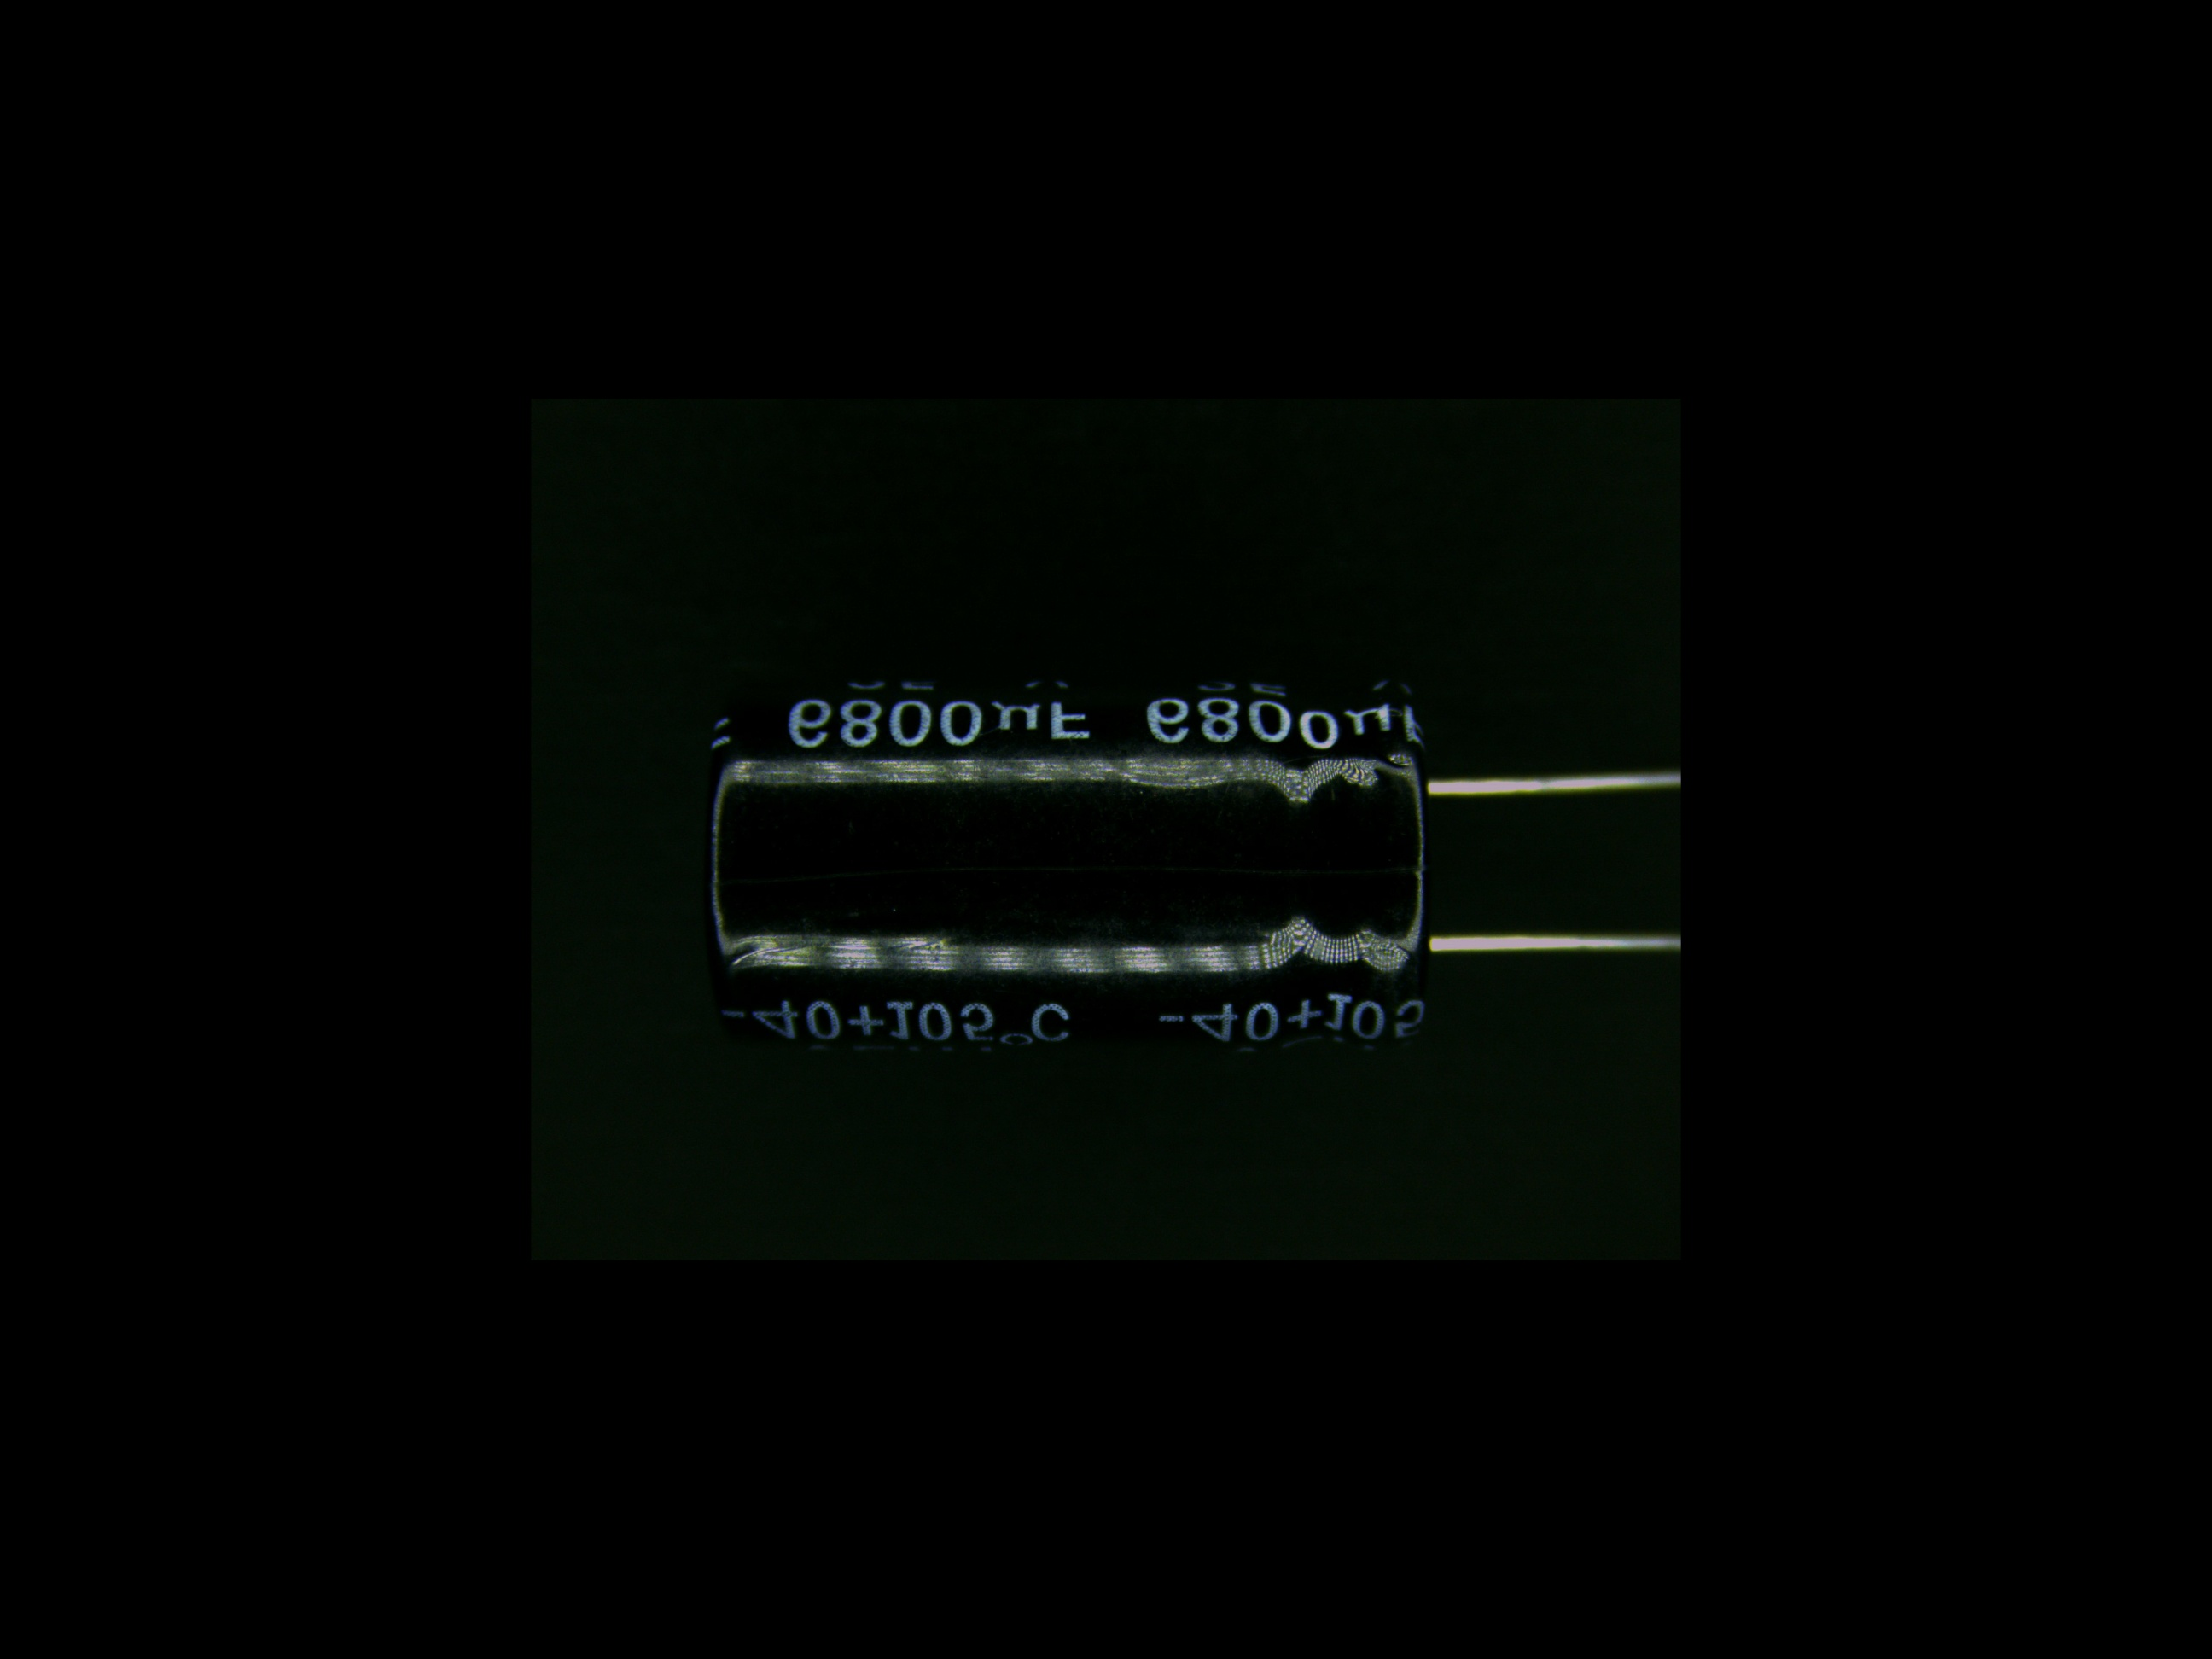c3: (697, 673, 1592, 1053)
